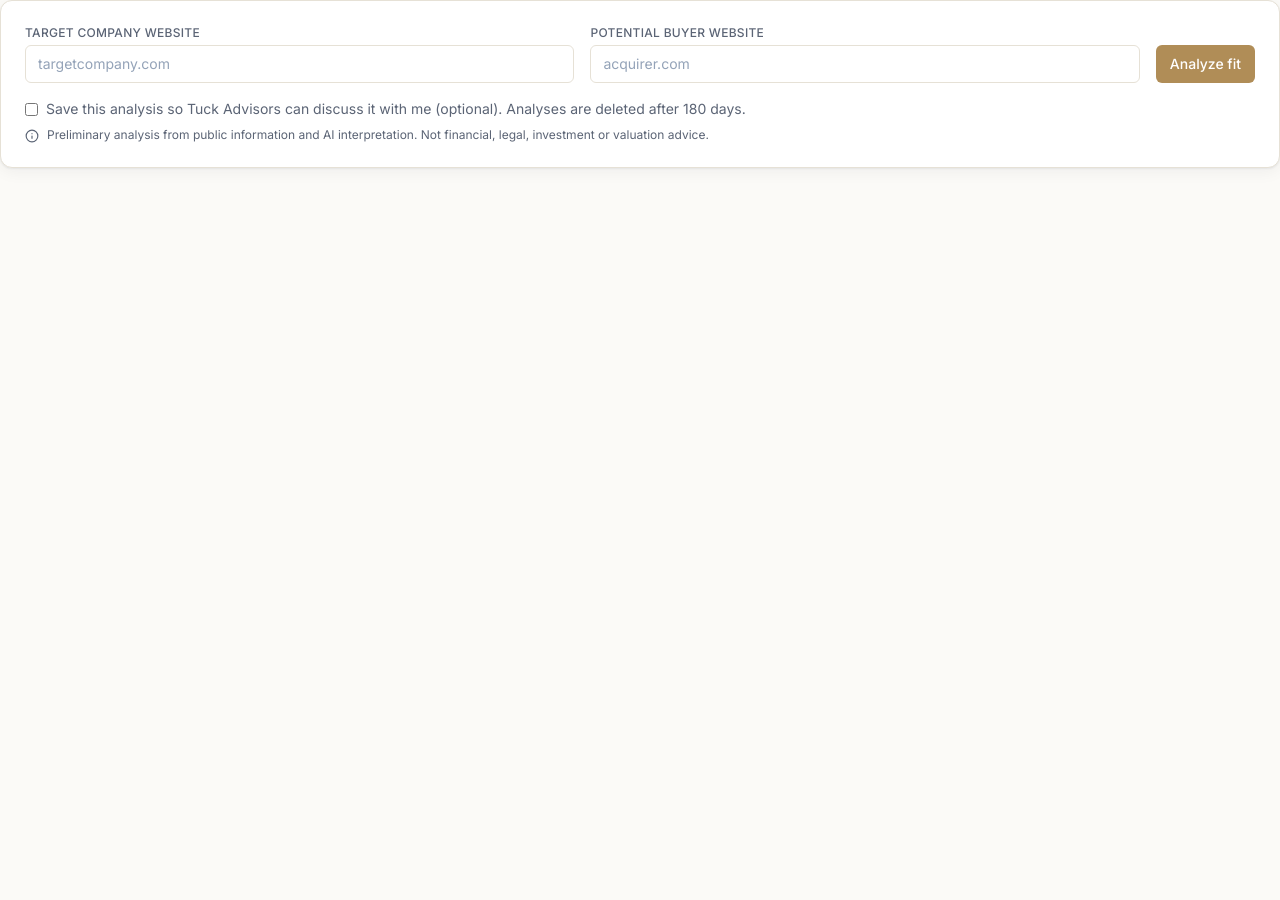
Test: M&A Analyzer › renders score, provenance badges, unknowns, sources and disclaimer; escapes content
Type "target.example" into the field labelled "Target company website" at x=300, y=64, box [25,45,574,83]
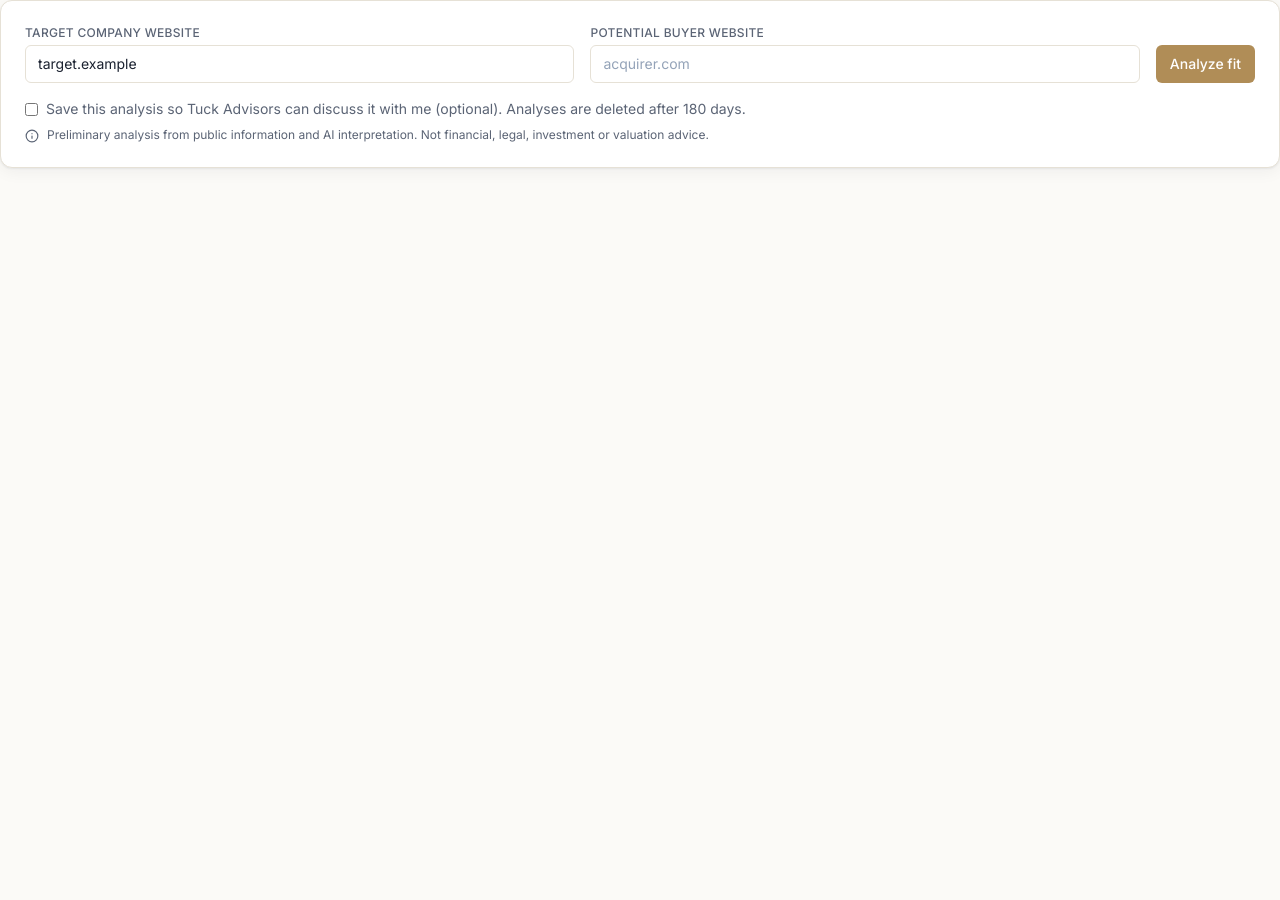
Type "buyer.example" into the field labelled "Potential buyer website" at x=865, y=64, box [590,45,1140,83]
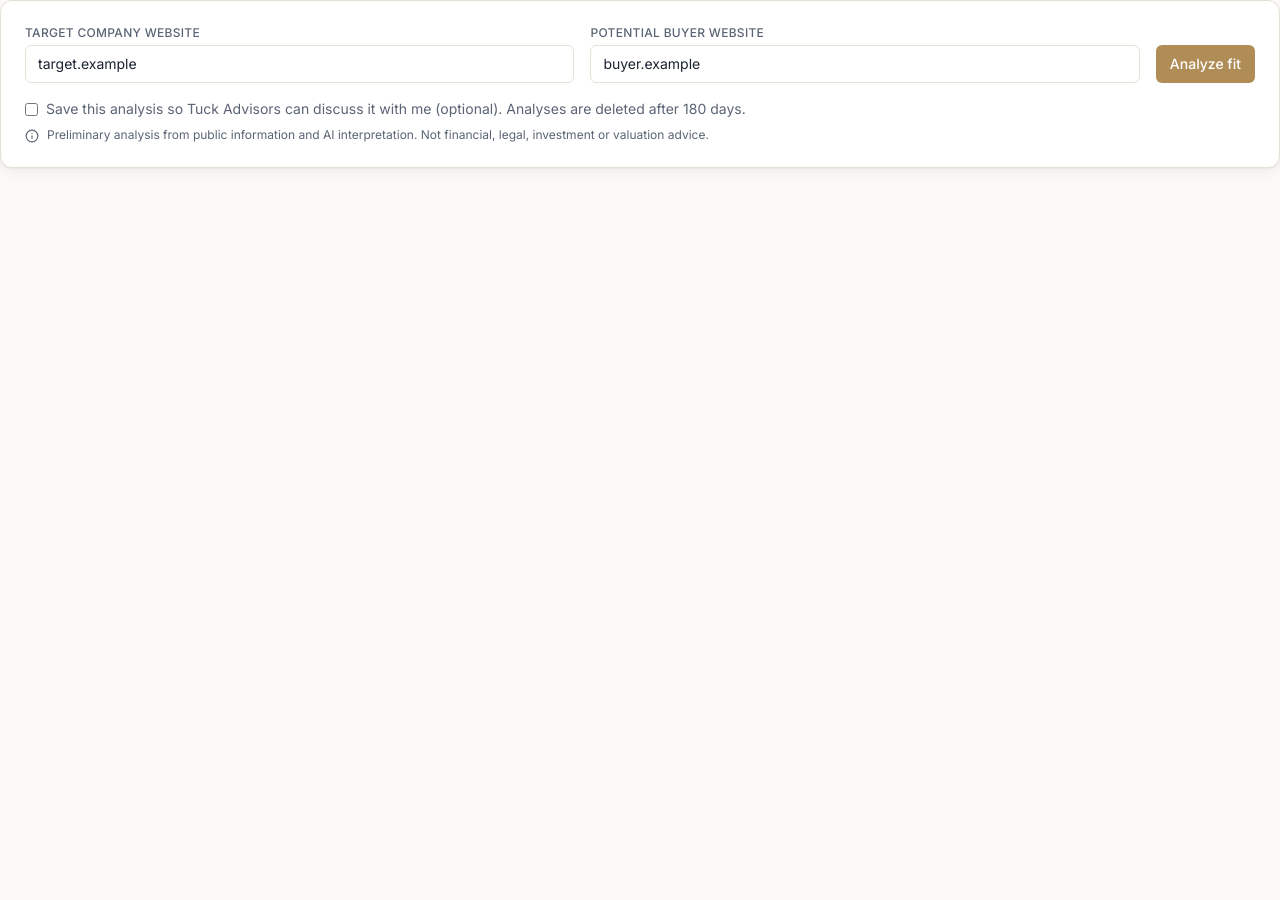
Click the button "Analyze fit" at x=1205, y=64, box [1156,45,1255,83]
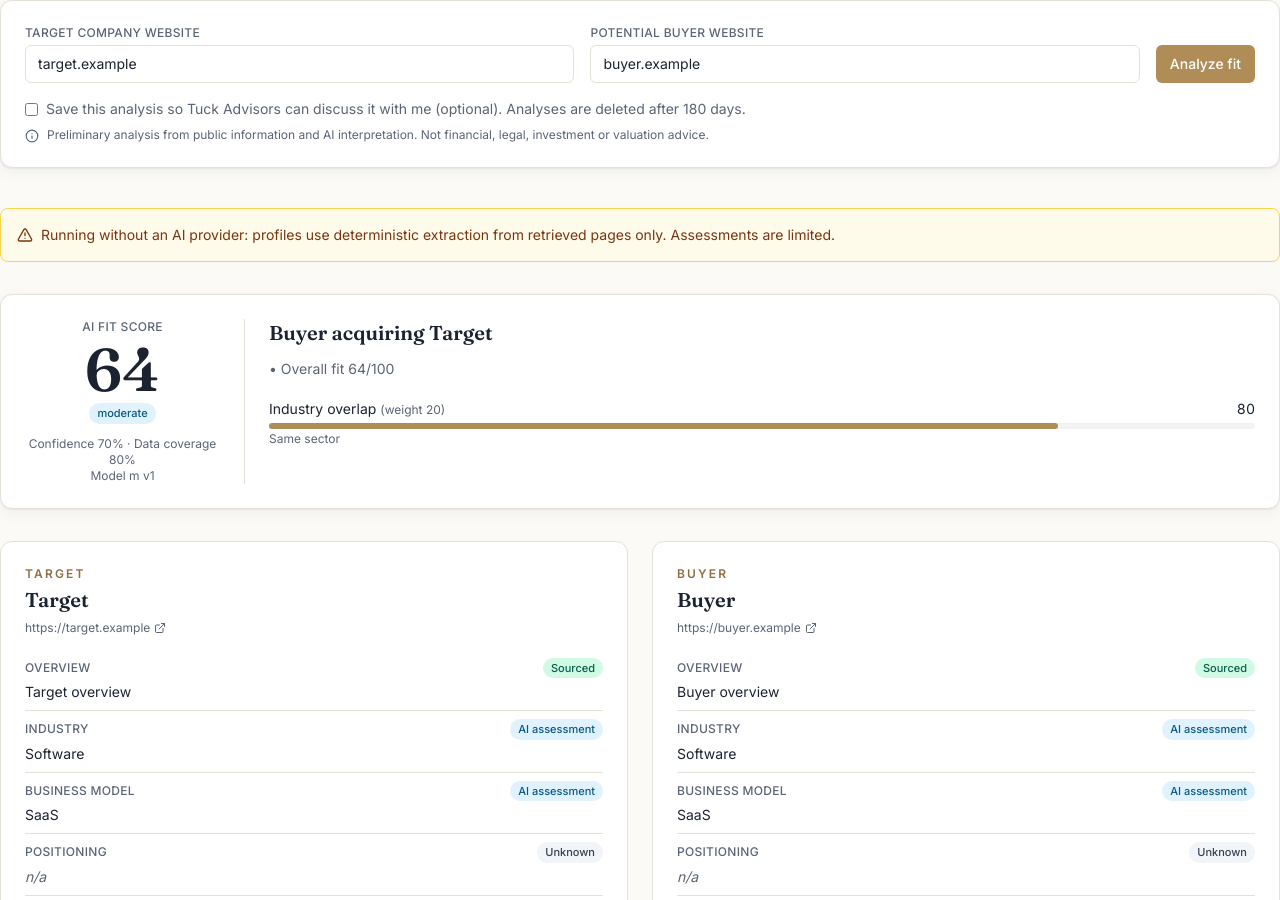
Expected: the text "64" is shown, [85,332,160,406]
Expected: the 1st text "Sourced" is shown, [543,658,603,678]
Expected: the text "without an AI provider" is shown, [41,226,835,243]
